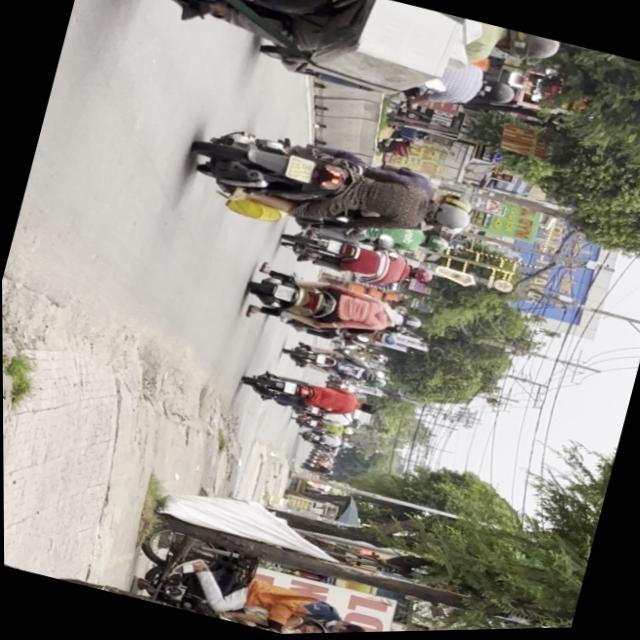helmet: (496, 28, 563, 71), (426, 200, 475, 237), (478, 75, 520, 109)
licenseplate: (94, 0, 566, 145), (179, 106, 487, 274)
nohelmet: (285, 155, 316, 183)
